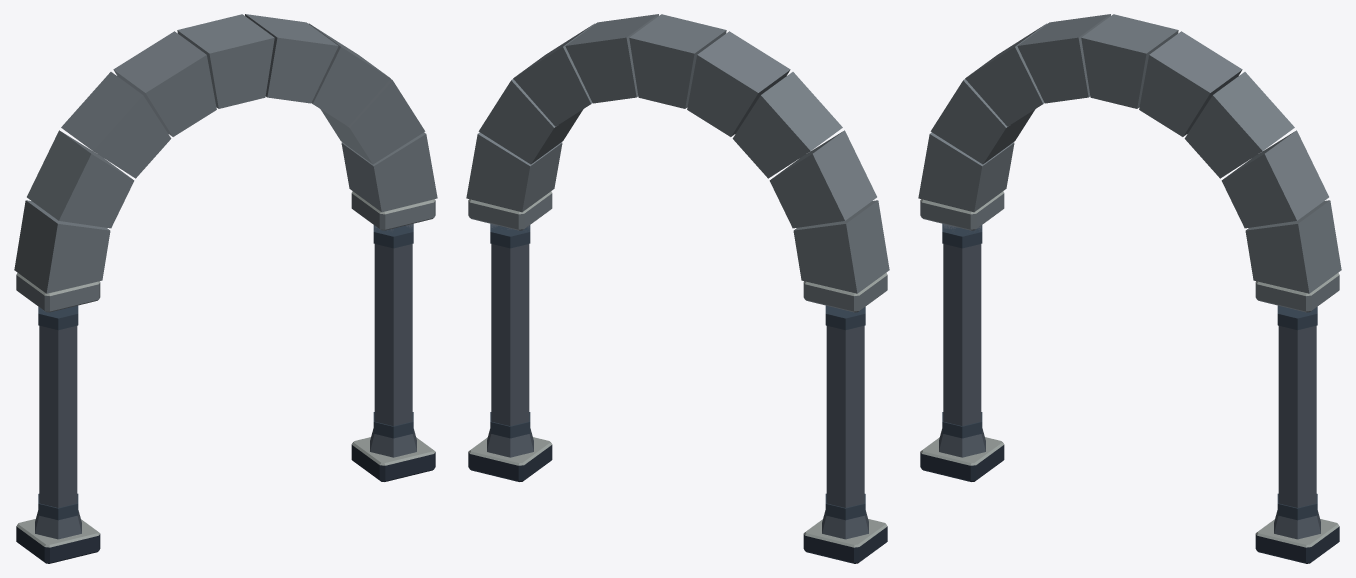
The model's file is arch-free.glb.
3 views of the same model, side by side, from view 1: azimuth 30°, elevation 25°; view 2: azimuth 150°, elevation 25°; view 3: azimuth 330°, elevation 25° (orthographic).
Parts seen in each view (by area): view 1: arch-free__body; view 2: arch-free__body; view 3: arch-free__body.
Boxes of the visible parts, <box> form: arch-free__body: <box>14,14,437,563</box>; arch-free__body: <box>466,14,889,563</box>; arch-free__body: <box>918,14,1341,563</box>.
Bounding box in the file's own units: 2.8 × 3.23 × 0.4.
